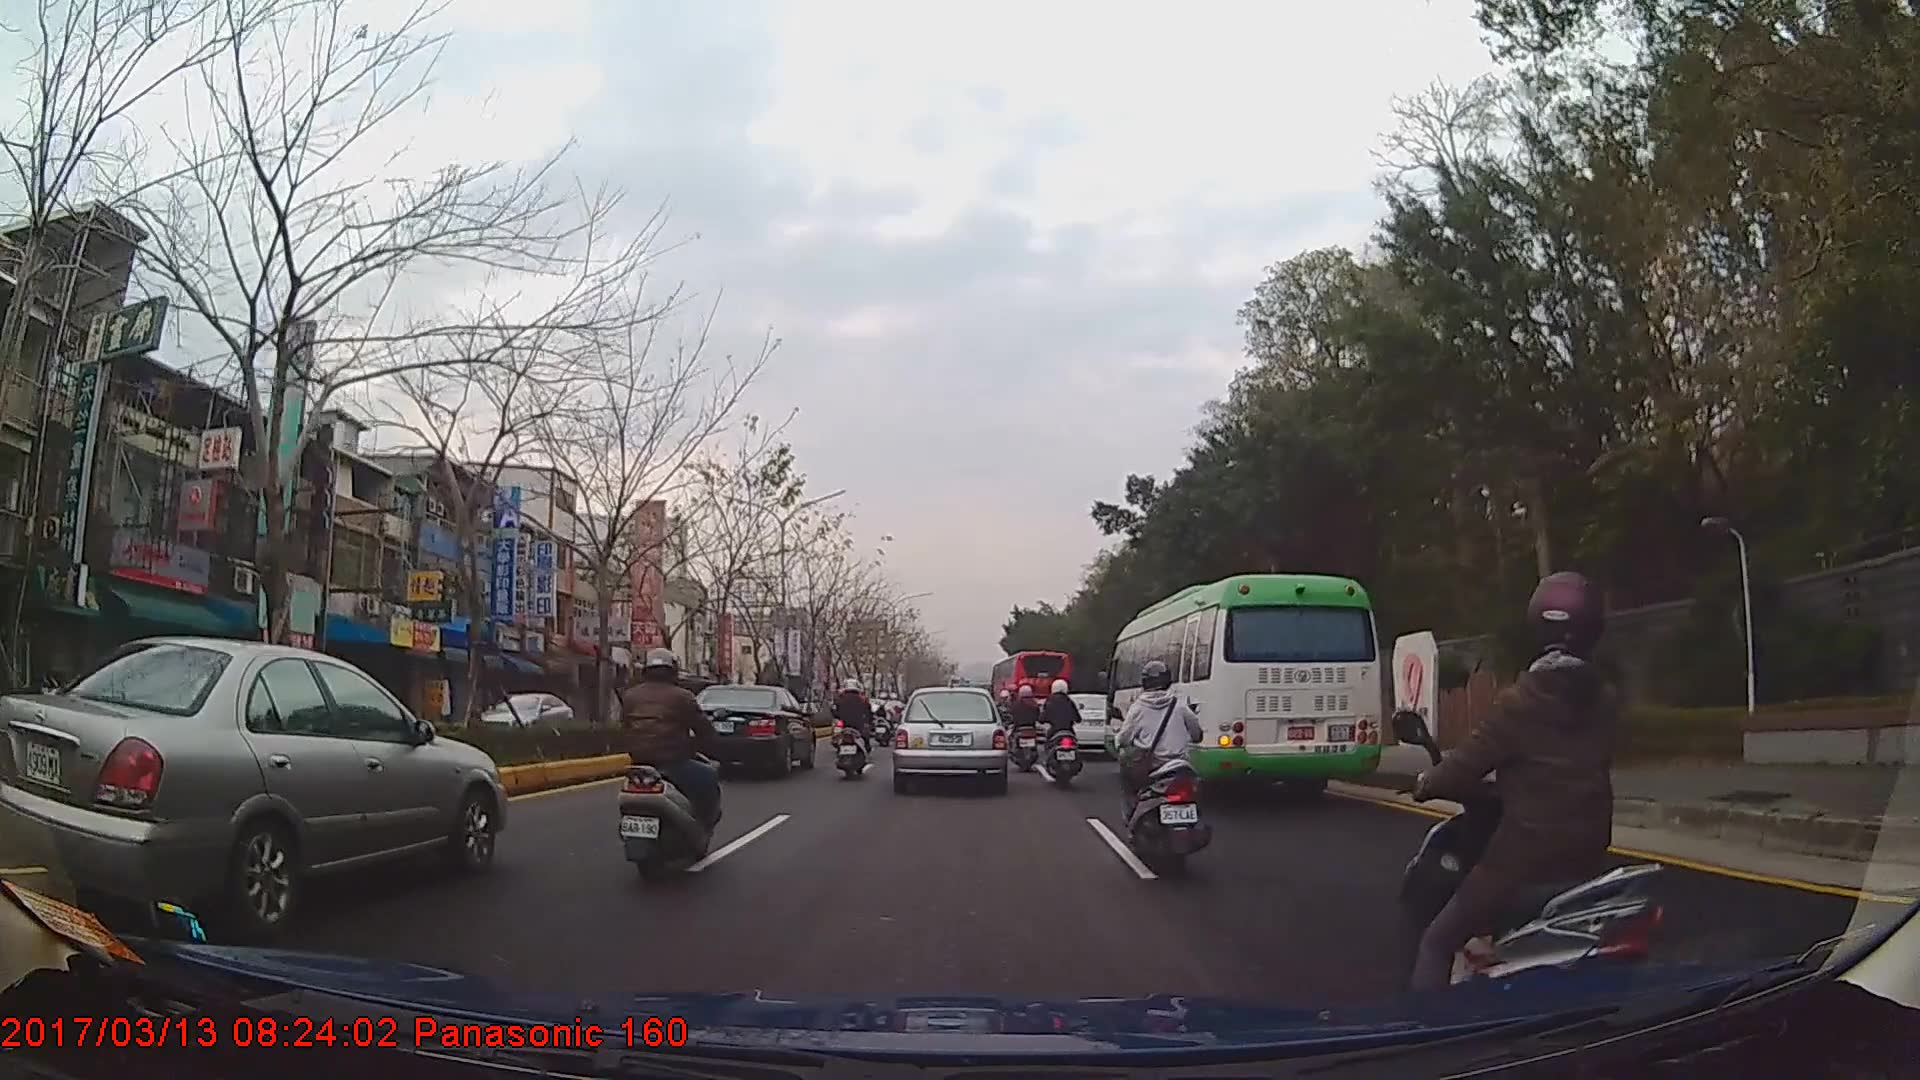rider: (1394, 567, 1672, 1043), (619, 644, 723, 886), (1120, 661, 1213, 881), (1040, 679, 1086, 786), (834, 678, 877, 781), (1010, 681, 1046, 773), (872, 692, 898, 746), (885, 691, 908, 727)
vehicle: (0, 634, 508, 919), (1104, 572, 1381, 800), (676, 682, 816, 774), (892, 685, 1009, 793), (992, 645, 1072, 738), (467, 687, 575, 745)
